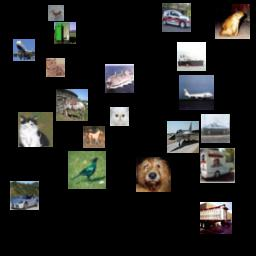airplane: (179, 75, 214, 110), (167, 121, 199, 153), (13, 39, 35, 61)
automobile: (10, 181, 39, 210), (201, 114, 230, 143), (162, 3, 191, 32)
bird: (68, 151, 106, 189)
cat: (18, 112, 53, 147), (46, 58, 65, 77), (110, 107, 129, 126)
deer: (48, 5, 64, 21)
dog: (136, 157, 171, 192)
frog: (215, 4, 250, 39)
ship: (177, 42, 206, 71), (105, 64, 134, 93)
truck: (200, 148, 235, 183), (200, 202, 232, 234), (54, 22, 76, 44)
